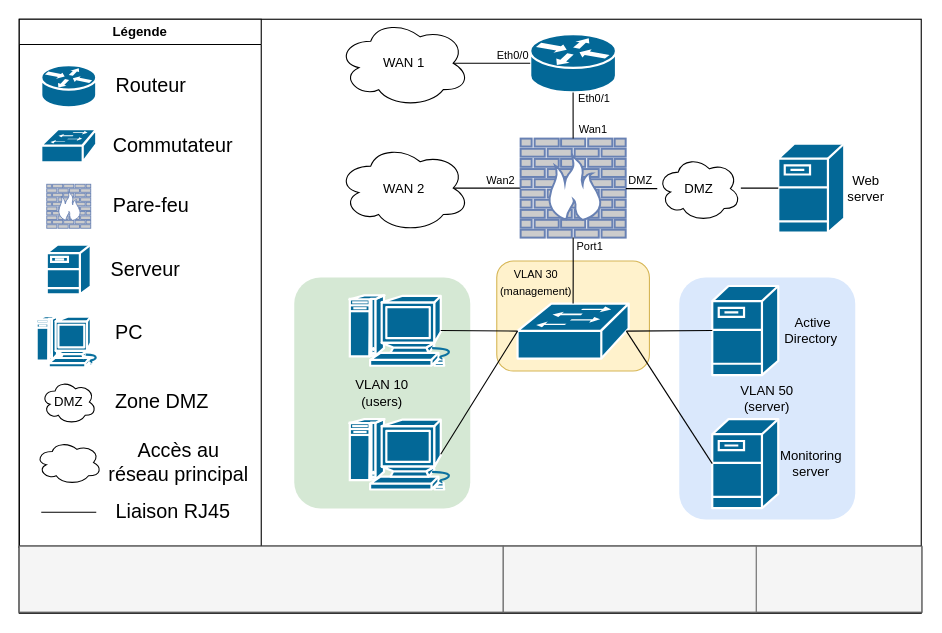
The diagram is 942 pixels wide and 633 high, and some of its shapes have lost their labels. Here are the shapes that lost their labels. From the top down, the centre of each, then its label:
At point 68,462: "WAN".
At point 260,578: "Topologie générale d'une AGENCE".
At point 629,578: "Projet de cybersécurité Version : 1.2".
At point 836,578: "Foriez Nicolas 19/02/2024".
